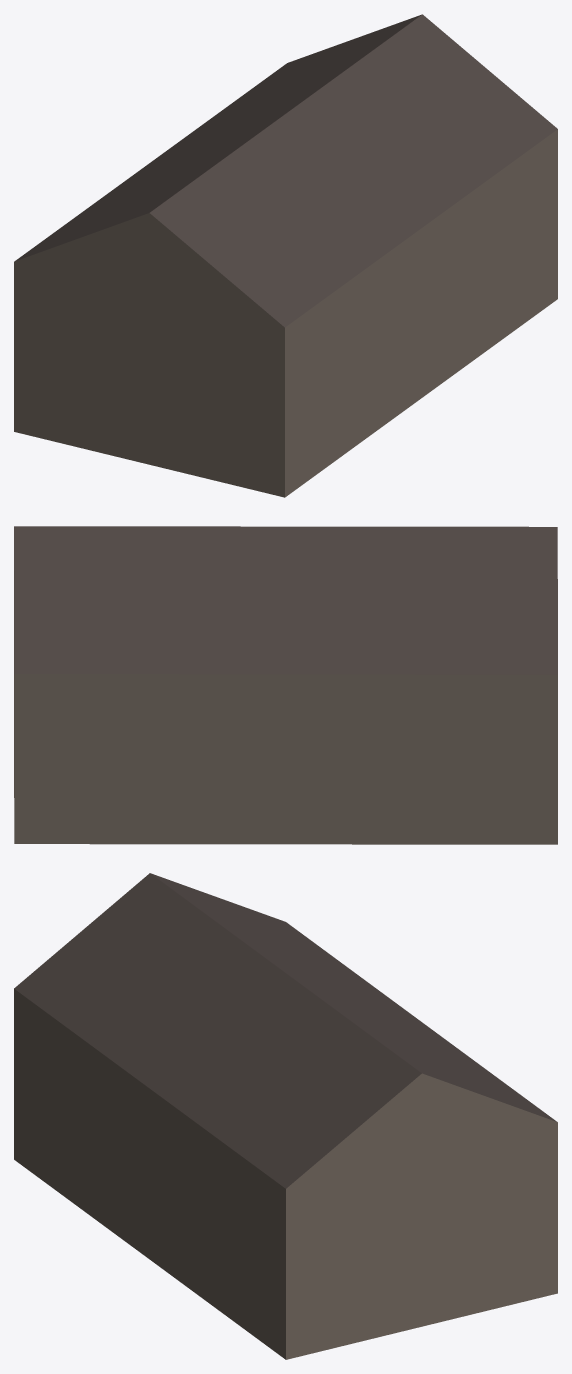
The picture shows the model from 3 angles, top to bottom: view 1: azimuth 30°, elevation 25°; view 2: azimuth 150°, elevation 25°; view 3: azimuth 270°, elevation 25°; orthographic projection.
Parts seen in each view (by area): view 1: HP-w859424137; view 2: HP-w859424137; view 3: HP-w859424137.
Part boxes in pixels (x1,y1,x2,y2): HP-w859424137: [14, 14, 557, 497]; HP-w859424137: [14, 526, 557, 844]; HP-w859424137: [14, 873, 557, 1359].
Bounding box in the file's own units: 20.09 × 8.89 × 17.3.
